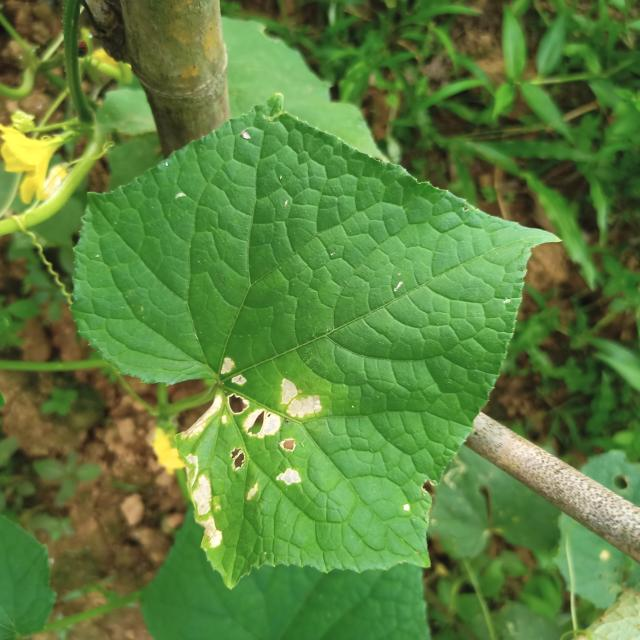disease_cucumber: (182, 355, 323, 548)
